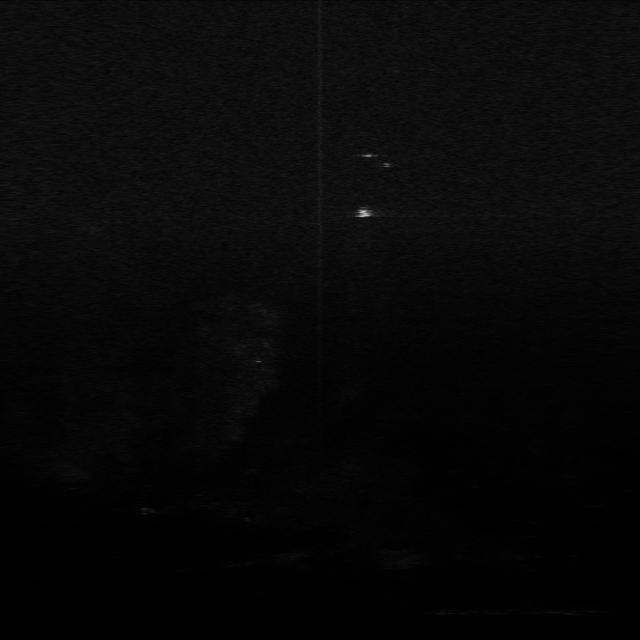rov: (352, 204, 374, 222)
